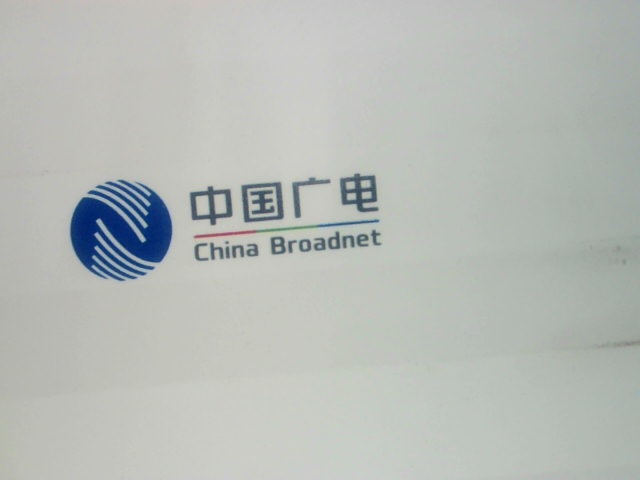AW_ChinaBroadNet: (58, 170, 399, 283)
